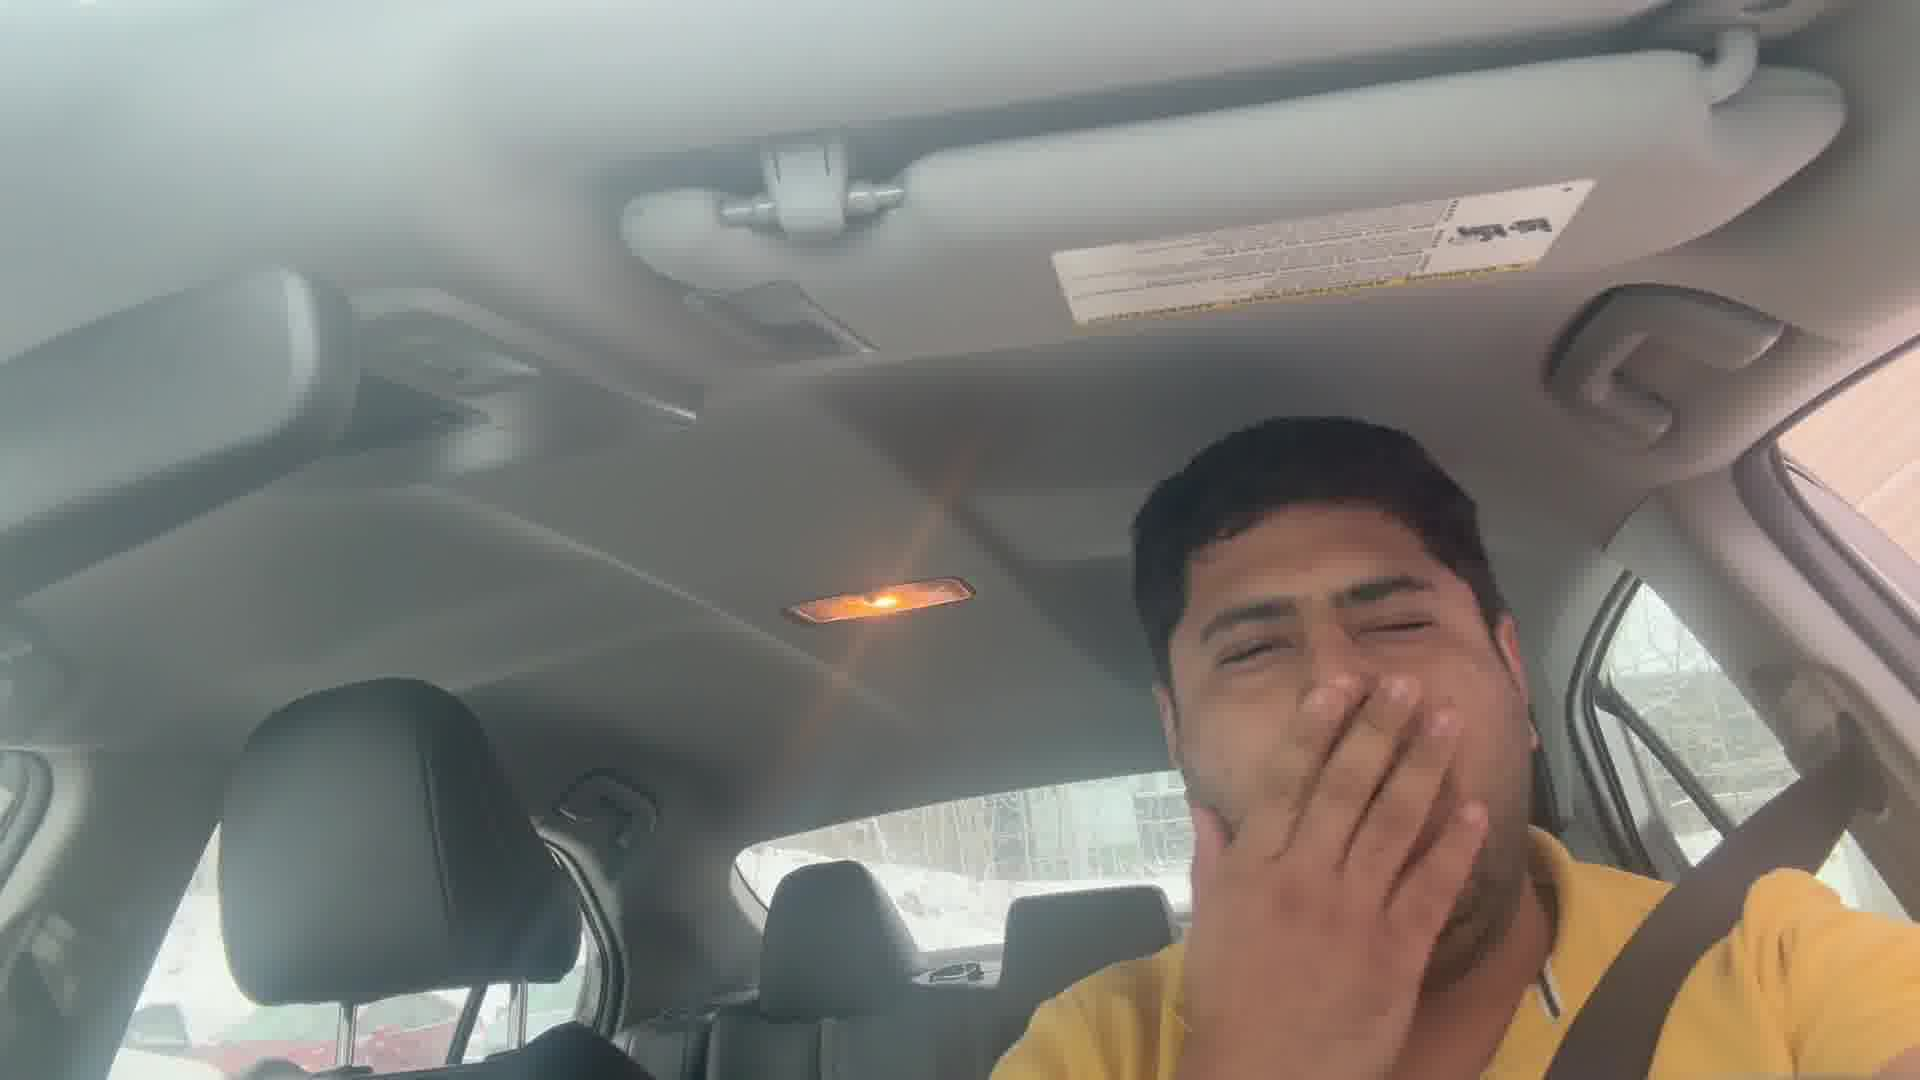seatbelt: (795, 390, 1911, 1069)
